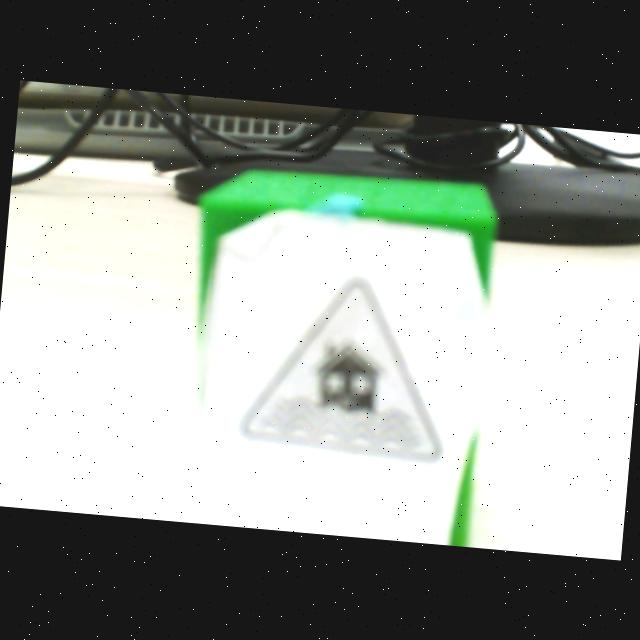Tsunami: (243, 278, 440, 460)
